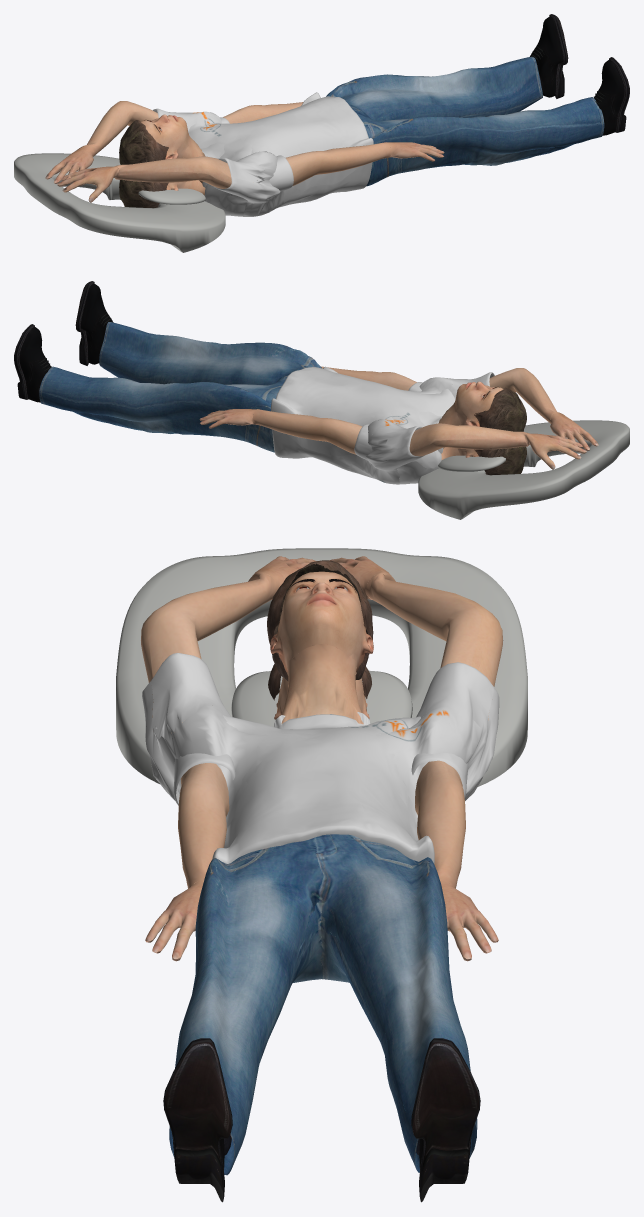
3 views of the same model, one above another, from view 1: azimuth 30°, elevation 25°; view 2: azimuth 150°, elevation 25°; view 3: azimuth 270°, elevation 25° (orthographic). The views are drawn at different scales.
Parts seen in each view (by area): view 1: Human.male_casualsuit06.001, Human.male_casualsuit06, IQSPECT_Arm_Support, Human.001, Human, Human.shoes03.001, Human.short02.001, Human.shoes03, Human.short02, IQSPECT_Head_Pad; view 2: Human.male_casualsuit06.001, Human.male_casualsuit06, IQSPECT_Arm_Support, Human.001, Human, Human.shoes03.001, Human.short02.001, Human.shoes03, Human.short02, IQSPECT_Head_Pad; view 3: Human.male_casualsuit06.001, Human.001, IQSPECT_Arm_Support, Human, Human.male_casualsuit06, Human.shoes03.001, Human.shoes03, IQSPECT_Head_Pad, Human.short02.001.
Part boxes in pixels (x1,y1,x2,y2): Human.male_casualsuit06.001: (153,56,604,216); Human.male_casualsuit06: (188,59,604,216); IQSPECT_Arm_Support: (14,153,225,252); Human.001: (45,101,231,202); Human: (166,102,444,195); Human.shoes03.001: (530,14,629,126); Human.short02.001: (119,120,168,164); Human.shoes03: (536,15,629,147); Human.short02: (119,179,168,208); IQSPECT_Head_Pad: (119,179,205,204); Human.male_casualsuit06.001: (39,322,494,484); Human.male_casualsuit06: (39,322,455,484); IQSPECT_Arm_Support: (418,420,629,519); Human.001: (409,368,598,469); Human: (199,366,521,459); Human.shoes03.001: (14,281,113,394); Human.short02.001: (474,387,526,431); Human.shoes03: (14,282,107,402); Human.short02: (474,446,526,475); IQSPECT_Head_Pad: (438,455,505,471); Human.male_casualsuit06.001: (142,653,499,1175); Human.001: (140,556,503,1135); IQSPECT_Arm_Support: (116,548,527,786); Human: (145,657,498,1138); Human.male_casualsuit06: (173,715,477,1173); Human.shoes03.001: (163,1038,480,1200); Human.shoes03: (164,1051,479,1202); IQSPECT_Head_Pad: (231,670,412,726); Human.short02.001: (267,560,373,681).
Bounding box in the file's own units: 2.05 × 0.3917 × 0.6649.
13 materials, 12 textured.
